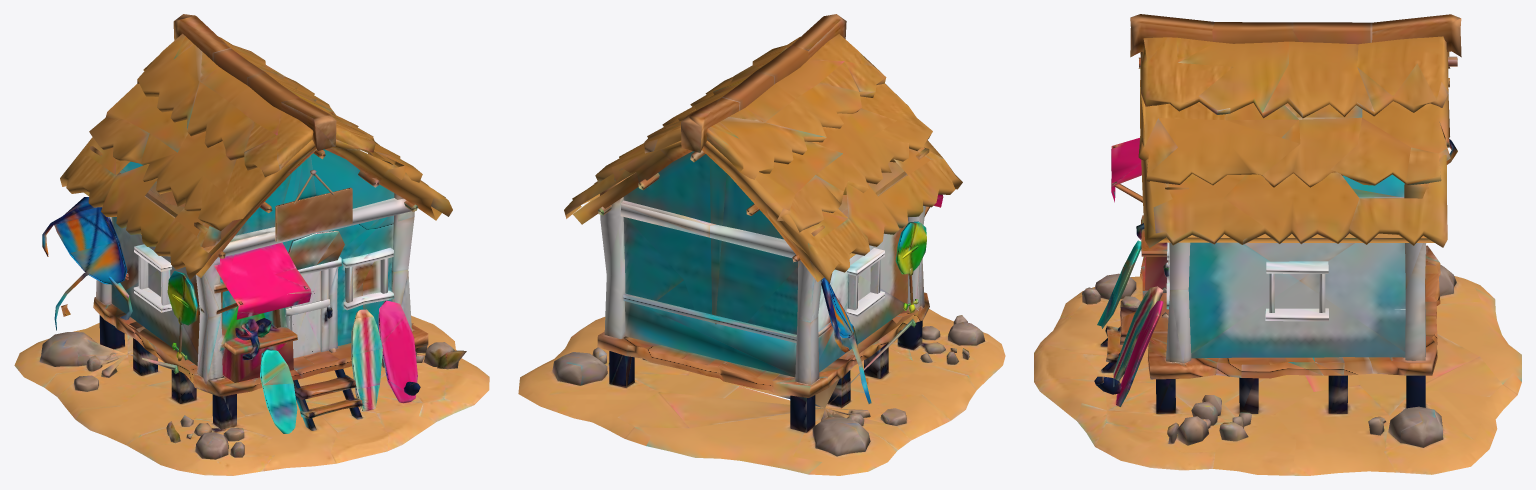
The model's file is hut.glb.
The picture shows the model from 3 angles, left to right: view 1: azimuth 30°, elevation 25°; view 2: azimuth 150°, elevation 25°; view 3: azimuth 270°, elevation 25°; orthographic projection. The views are drawn at different scales.
Size of the model in its own units: 1 by 0.803 by 1.
1 material, 1 textured.
